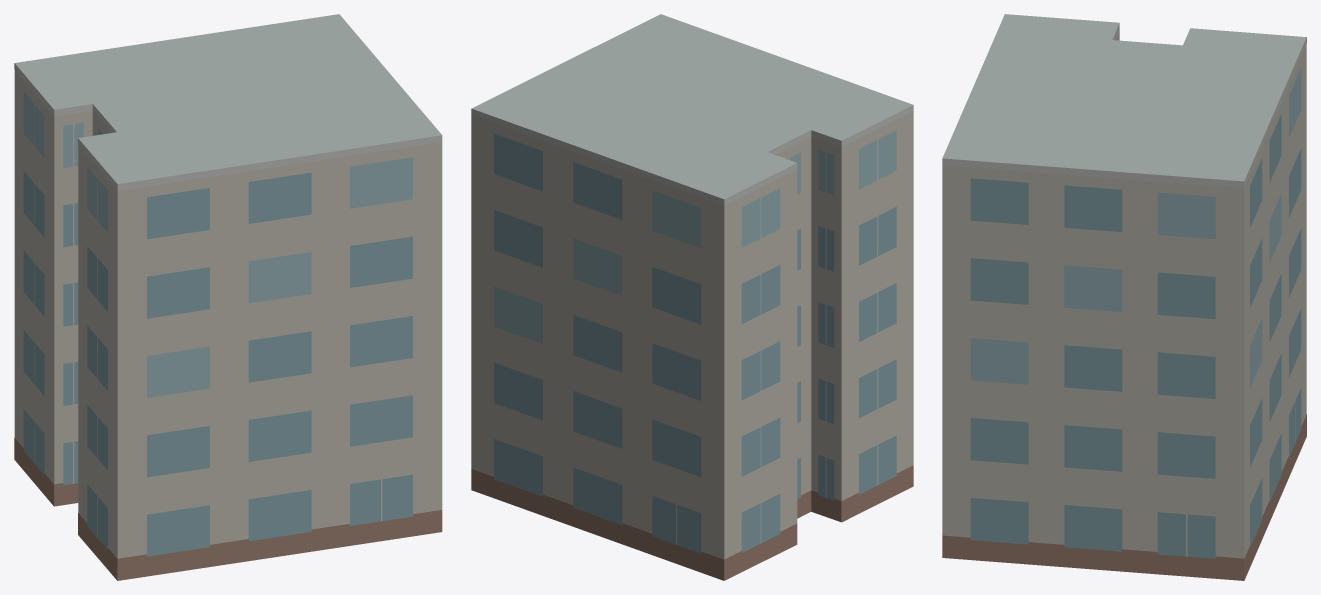
The model's file is survey-upis-33003904.glb.
3 renders of one model, left to right at view 1: azimuth 30°, elevation 25°; view 2: azimuth 150°, elevation 25°; view 3: azimuth 270°, elevation 25°, orthographic. The views are drawn at different scales.
Visible parts, largest first — view 1: survey-upis-33003904.tmp; view 2: survey-upis-33003904.tmp; view 3: survey-upis-33003904.tmp.
Part boxes in pixels (x1,y1,x2,y2): survey-upis-33003904.tmp: (14, 14, 442, 580); survey-upis-33003904.tmp: (471, 14, 913, 580); survey-upis-33003904.tmp: (942, 14, 1306, 580).
Bounding box in the file's own units: 12.91 × 14.35 × 11.87.
